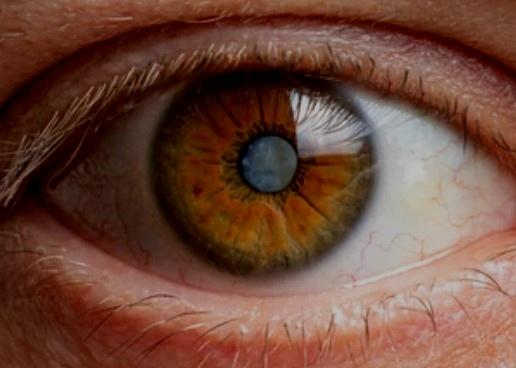eye: (152, 70, 383, 281)
